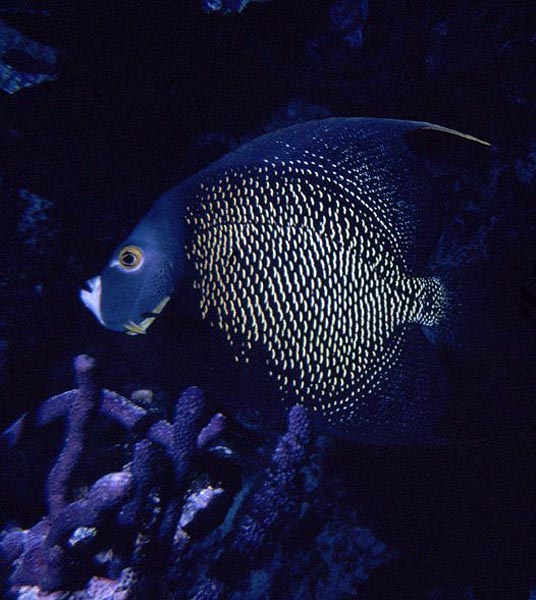Pomacanthus_paru: (44, 91, 493, 457)
